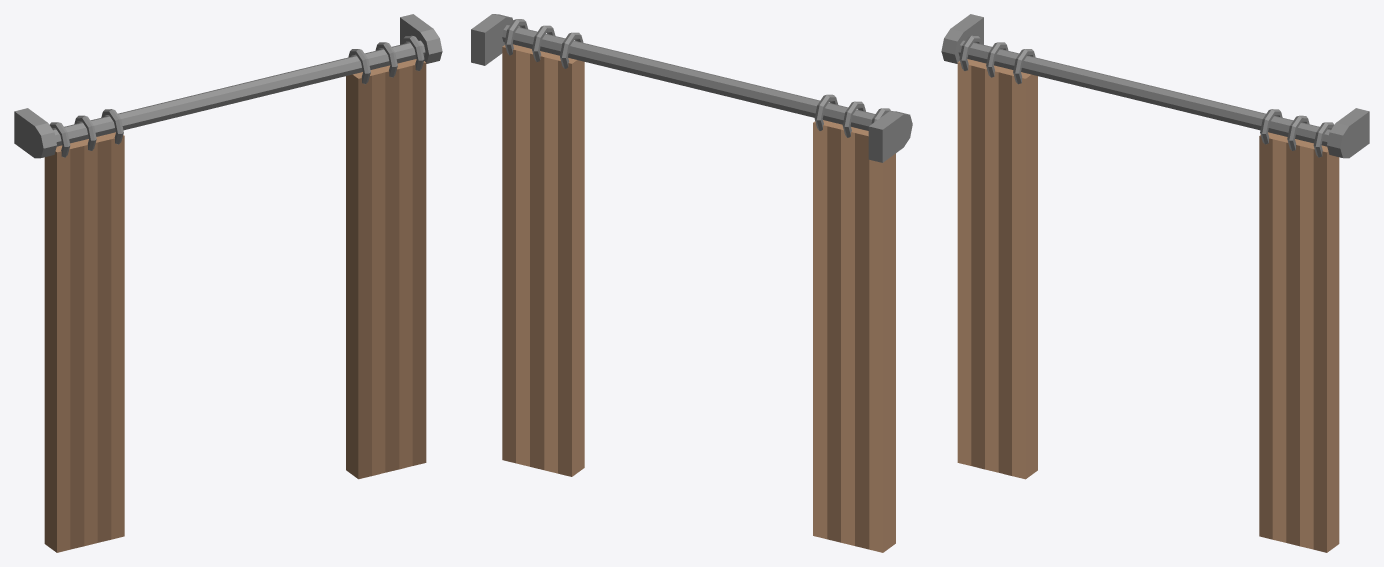
The model's file is Curtains_15_dra.glb.
3 views of the same model, side by side, from view 1: azimuth 30°, elevation 25°; view 2: azimuth 150°, elevation 25°; view 3: azimuth 330°, elevation 25° (orthographic). The views are drawn at different scales.
Parts seen in each view (by area): view 1: Curtains; view 2: Curtains; view 3: Curtains.
Part boxes in pixels (x1,y1,x2,y2): Curtains: [14, 14, 442, 552]; Curtains: [471, 14, 912, 552]; Curtains: [941, 14, 1369, 552].
Size of the model in its own units: 1.16 by 1.18 by 0.1584.
Materials: 1 (1 with a texture image).
